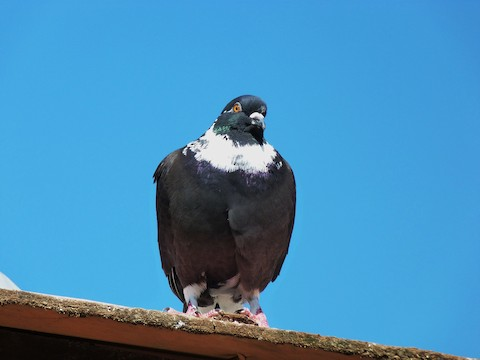pigeon: (145, 92, 300, 334)
